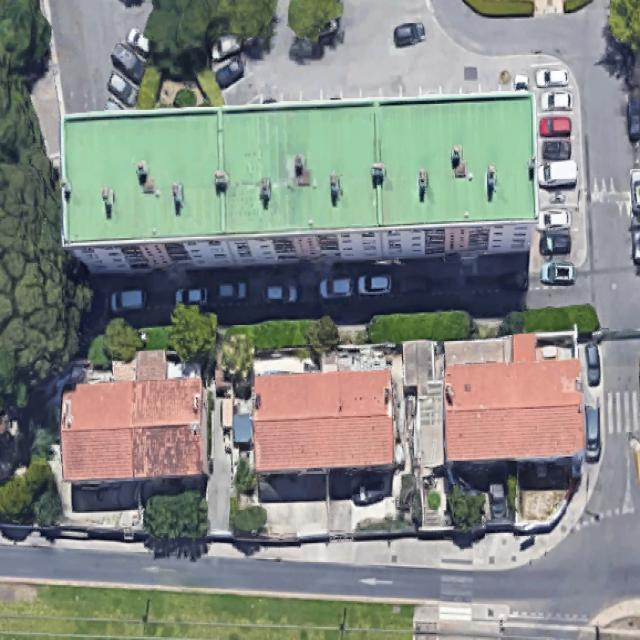immeuble: (54, 90, 544, 276)
maison: (57, 377, 214, 485), (248, 365, 398, 473), (445, 360, 584, 461)
